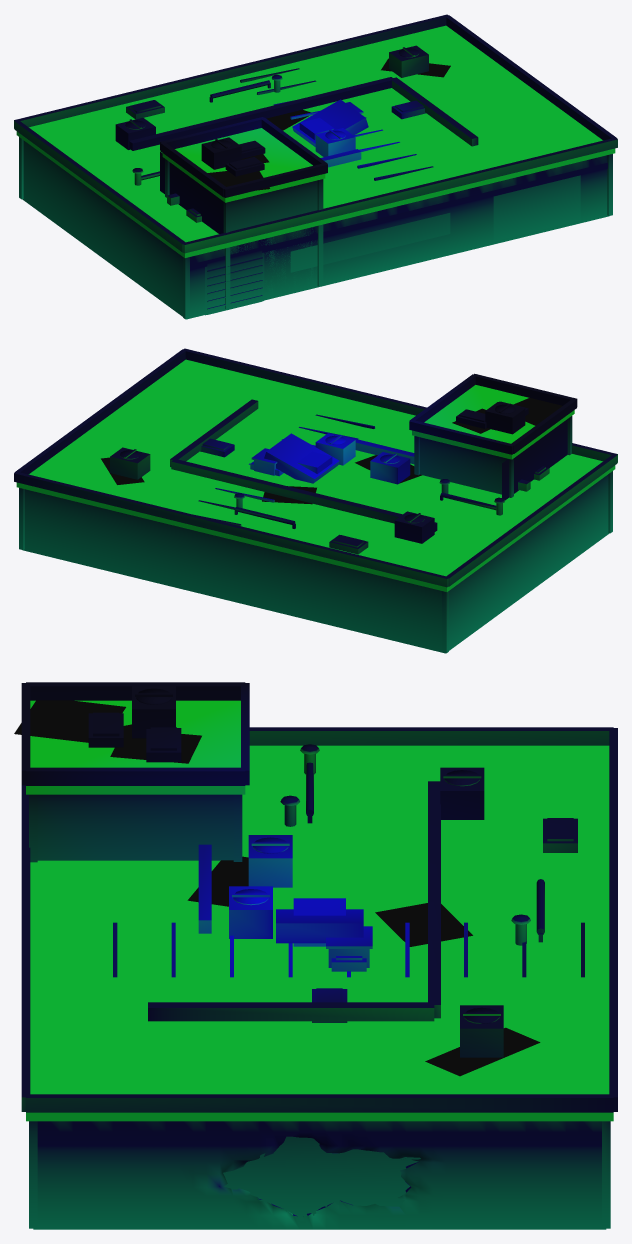
File: factorysm_damaged.glb
The picture shows the model from 3 angles, top to bottom: view 1: azimuth 30°, elevation 25°; view 2: azimuth 150°, elevation 25°; view 3: azimuth 270°, elevation 25°; orthographic projection. The views are drawn at different scales.
Parts seen in each view (by area): view 1: lod0; view 2: lod0; view 3: lod0.
Part boxes in pixels (x1,y1,x2,y2): lod0: [14, 14, 617, 319]; lod0: [14, 348, 617, 653]; lod0: [14, 682, 617, 1229].
Size of what is drawn, in the model's own units: 30 by 8.84 by 20.66.
